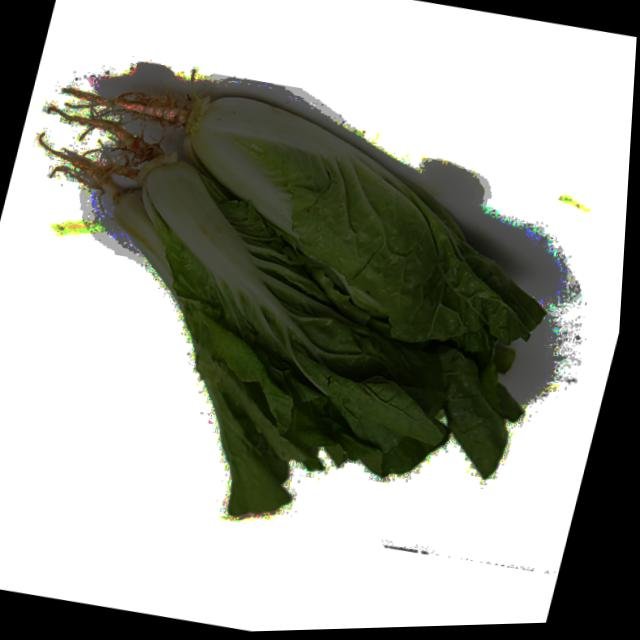chinese_cabbage: (12, 60, 585, 590)
